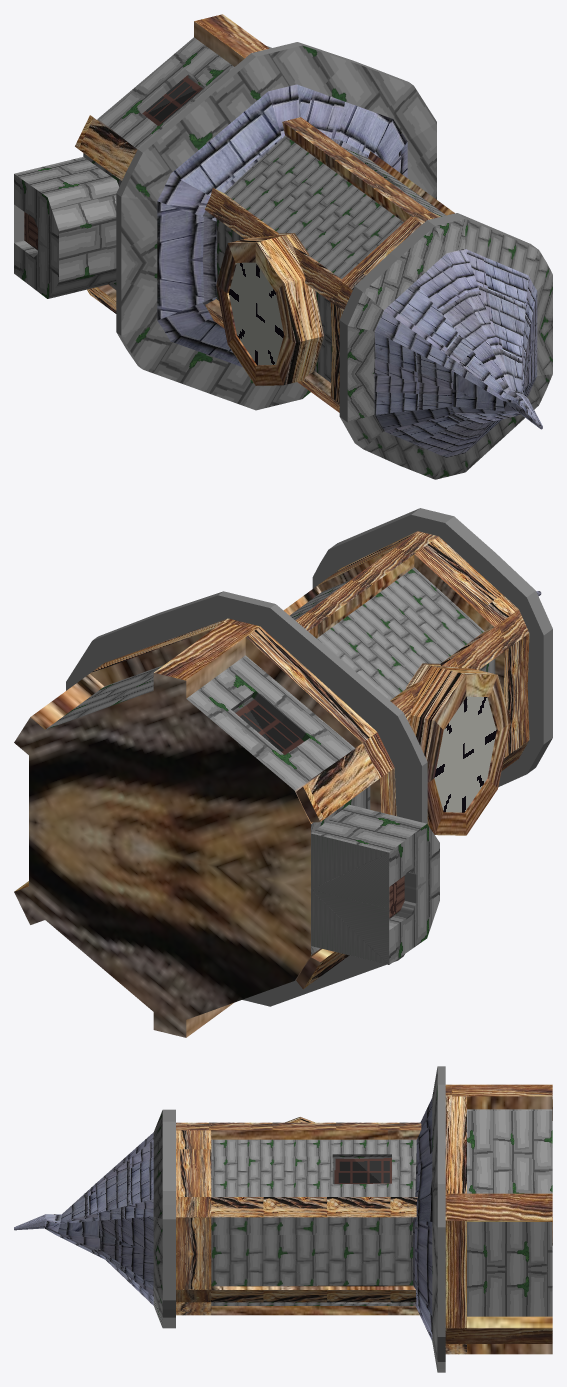
File: clocktowerpelaseee.fbx
3 views of the same model, one above another, from view 1: azimuth 30°, elevation 25°; view 2: azimuth 150°, elevation 25°; view 3: azimuth 270°, elevation 25° (orthographic). The views are drawn at different scales.
Visible parts, largest first — view 1: Cylinder.019, Cylinder.017, Cylinder.018; view 2: Cylinder.019, Cylinder.017, Cylinder.018; view 3: Cylinder.017, Cylinder.019.
Part boxes in pixels (x1=…): Cylinder.019: x1=14, y1=14, x2=436, y2=410; Cylinder.017: x1=204, y1=117, x2=552, y2=479; Cylinder.018: x1=216, y1=233, x2=323, y2=385; Cylinder.019: x1=14, y1=591, x2=439, y2=1037; Cylinder.017: x1=283, y1=508, x2=552, y2=786; Cylinder.018: x1=406, y1=663, x2=510, y2=835; Cylinder.017: x1=14, y1=1109, x2=421, y2=1328; Cylinder.019: x1=413, y1=1066, x2=552, y2=1372.
Bounding box in the file's own units: 2243 × 2150 × 3648.
